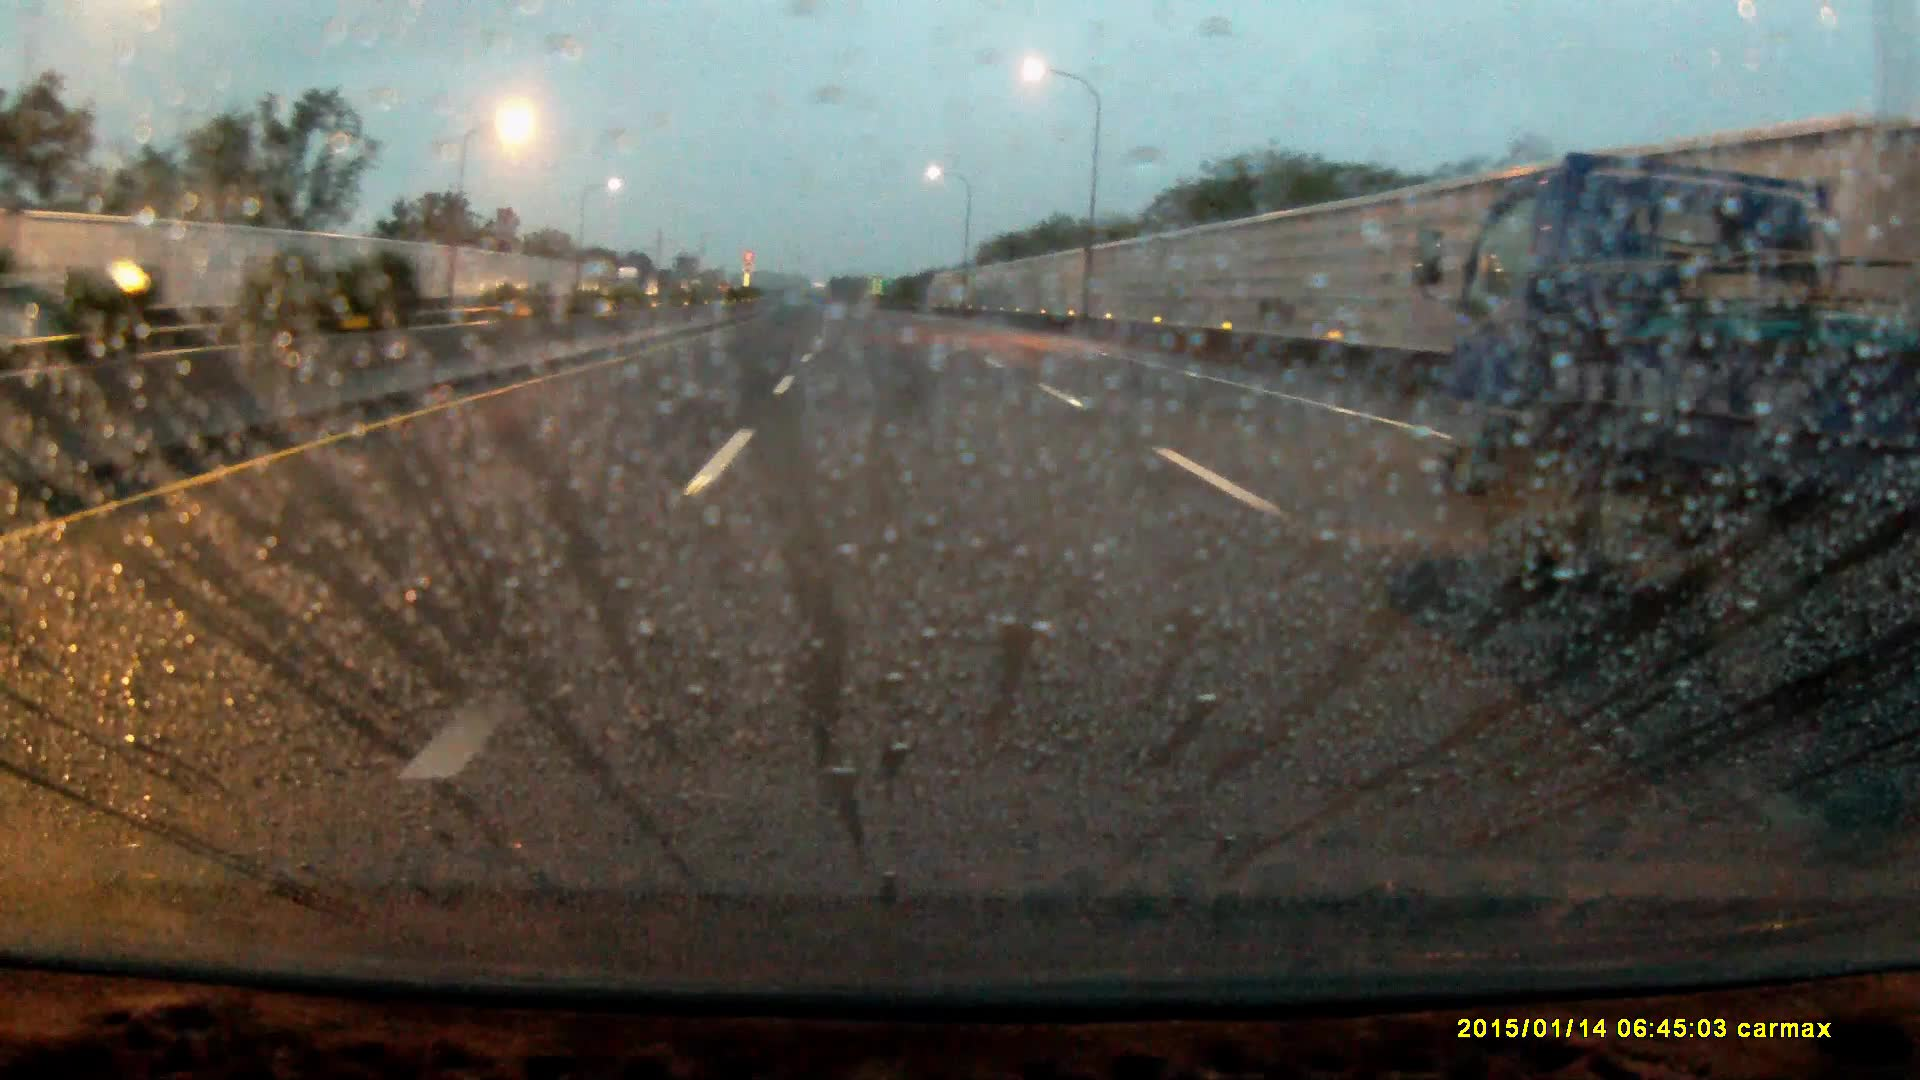vehicle: (1445, 161, 1920, 611), (616, 268, 650, 303)
